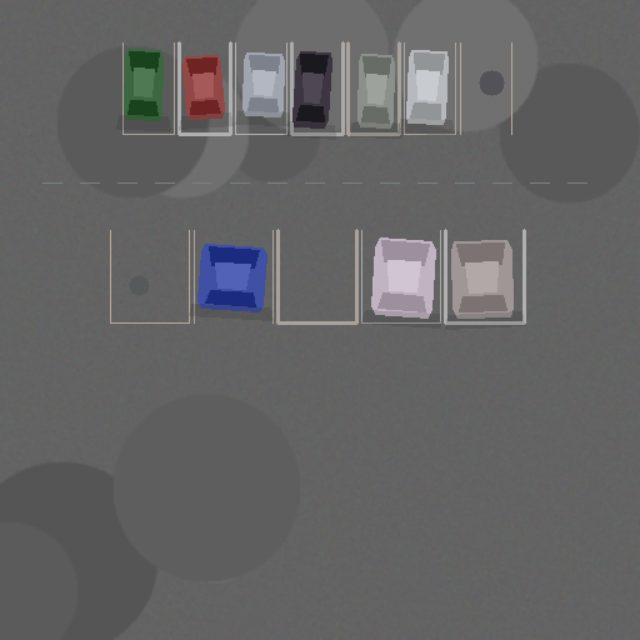space-empty: (110, 230, 189, 323), (277, 230, 356, 323), (460, 42, 511, 134)
space-occupied: (194, 230, 273, 323), (361, 230, 440, 323), (445, 230, 524, 323), (122, 42, 174, 134), (179, 42, 230, 134), (235, 42, 286, 134), (291, 42, 342, 134), (348, 42, 399, 134), (404, 42, 455, 134)
